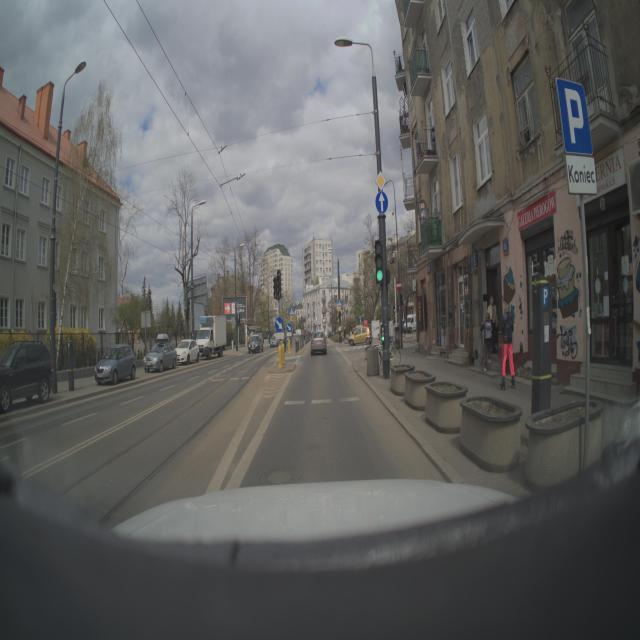green_light: (372, 238, 391, 286)
